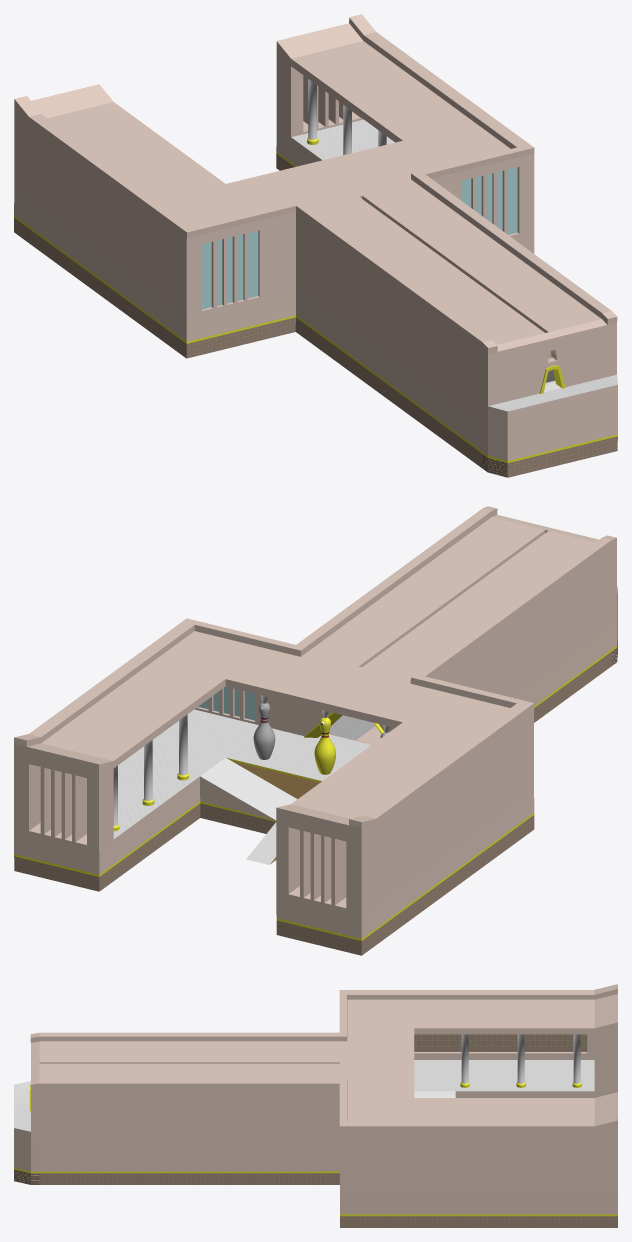
The model's file is TempleEntry.fbx.
The picture shows the model from 3 angles, top to bottom: view 1: azimuth 30°, elevation 25°; view 2: azimuth 150°, elevation 25°; view 3: azimuth 270°, elevation 25°; orthographic projection. The views are drawn at different scales.
Parts seen in each view (by area): view 1: TempleEntry, templentry_pillars.001; view 2: TempleEntry, templentry_pillars, templentry_pillars.001; view 3: TempleEntry, templentry_pillars.002.
Boxes of the visible parts, left/top/right/bottom form: TempleEntry: left=14, top=14, right=617, bottom=477; templentry_pillars.001: left=307, top=79, right=386, bottom=154; TempleEntry: left=14, top=506, right=617, bottom=955; templentry_pillars: left=253, top=695, right=389, bottom=774; templentry_pillars.001: left=113, top=714, right=188, bottom=831; TempleEntry: left=14, top=984, right=617, bottom=1227; templentry_pillars.002: left=460, top=1034, right=581, bottom=1087.
Size of the model in its own units: 520 by 972 by 191.
